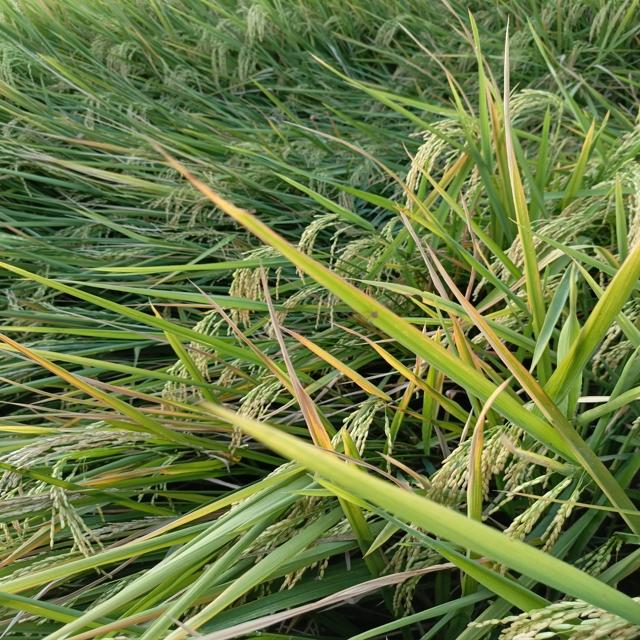Brown spot: (148, 140, 272, 267), (4, 310, 121, 429), (434, 370, 522, 491), (333, 322, 434, 403)
